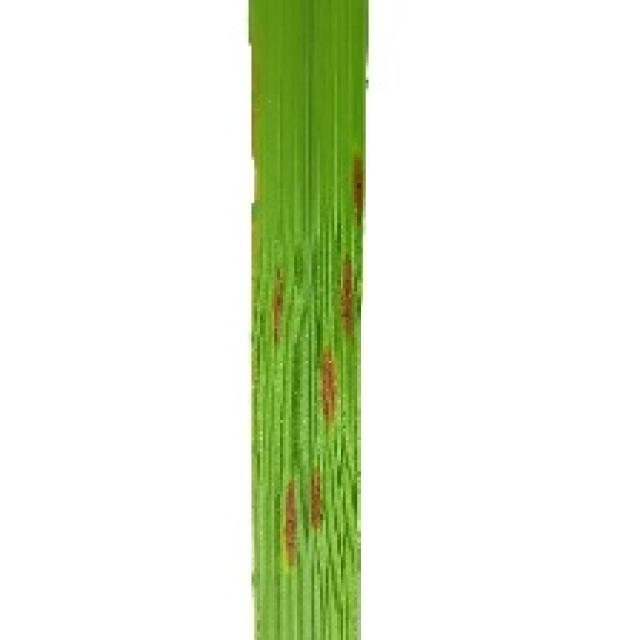Unhealthy: (320, 333, 341, 434), (270, 262, 288, 350), (339, 247, 355, 341), (282, 478, 298, 572), (309, 463, 324, 532), (353, 151, 366, 230)
